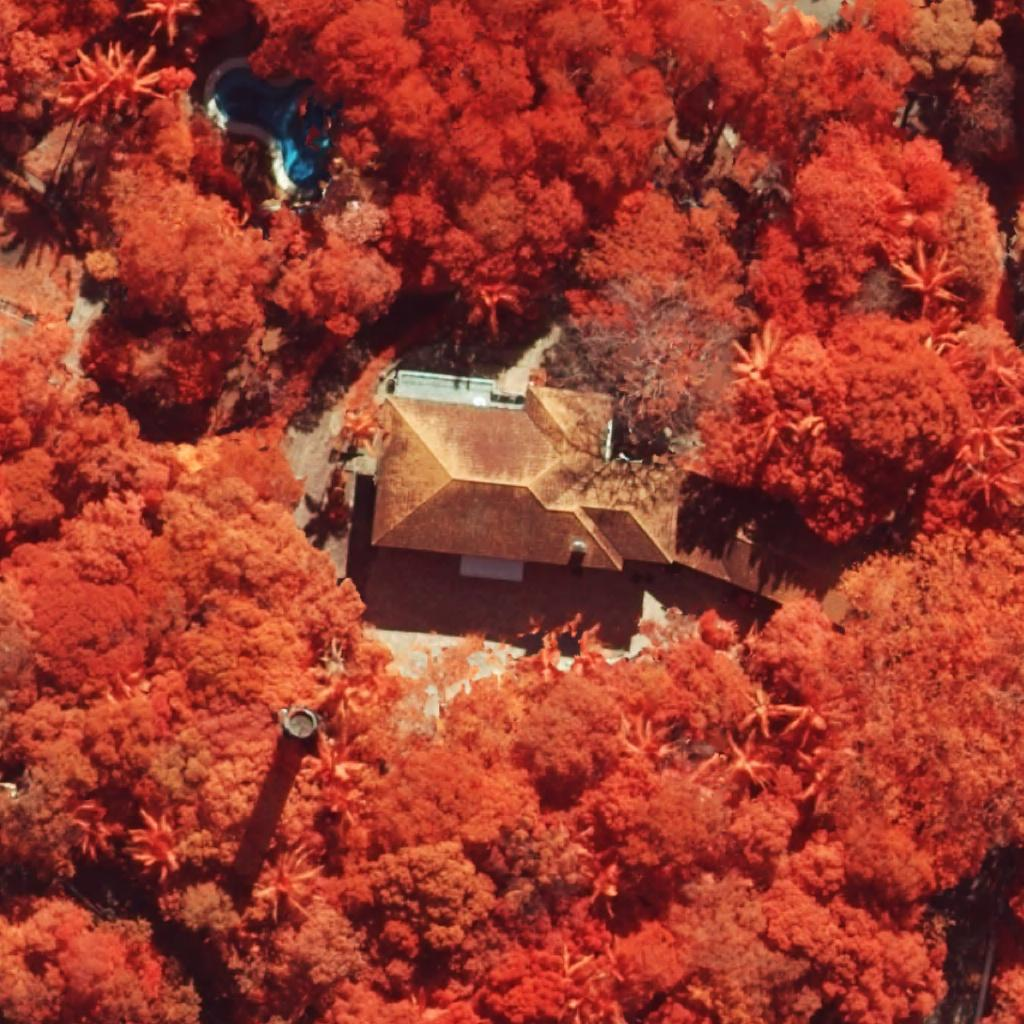pool: (214, 68, 332, 187)
